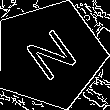N_SE: (17, 22, 82, 87)
